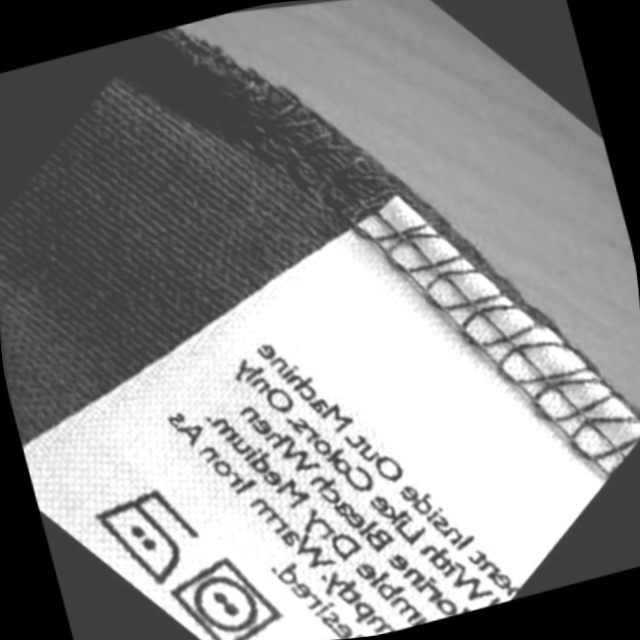iron_medium: (66, 462, 222, 611)
tumble_dry_medium: (145, 531, 301, 640)
